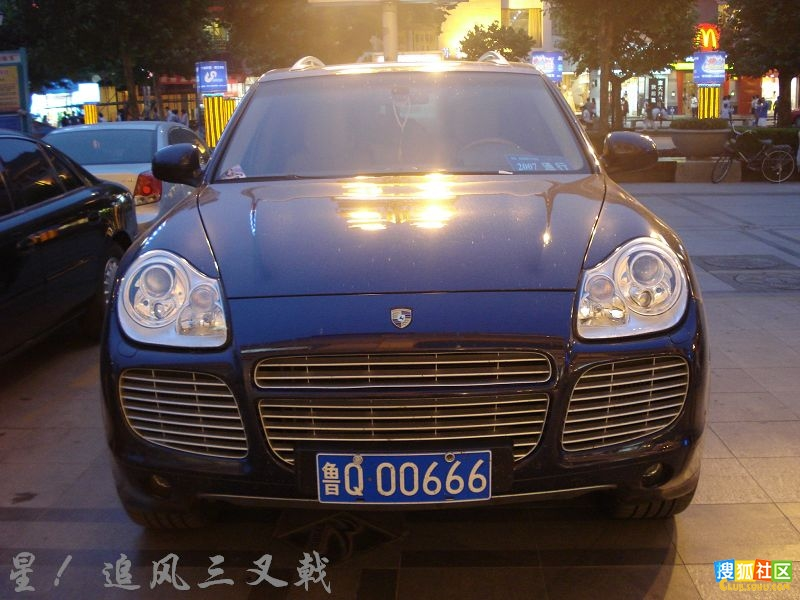plate_number: (316, 454, 493, 504)
